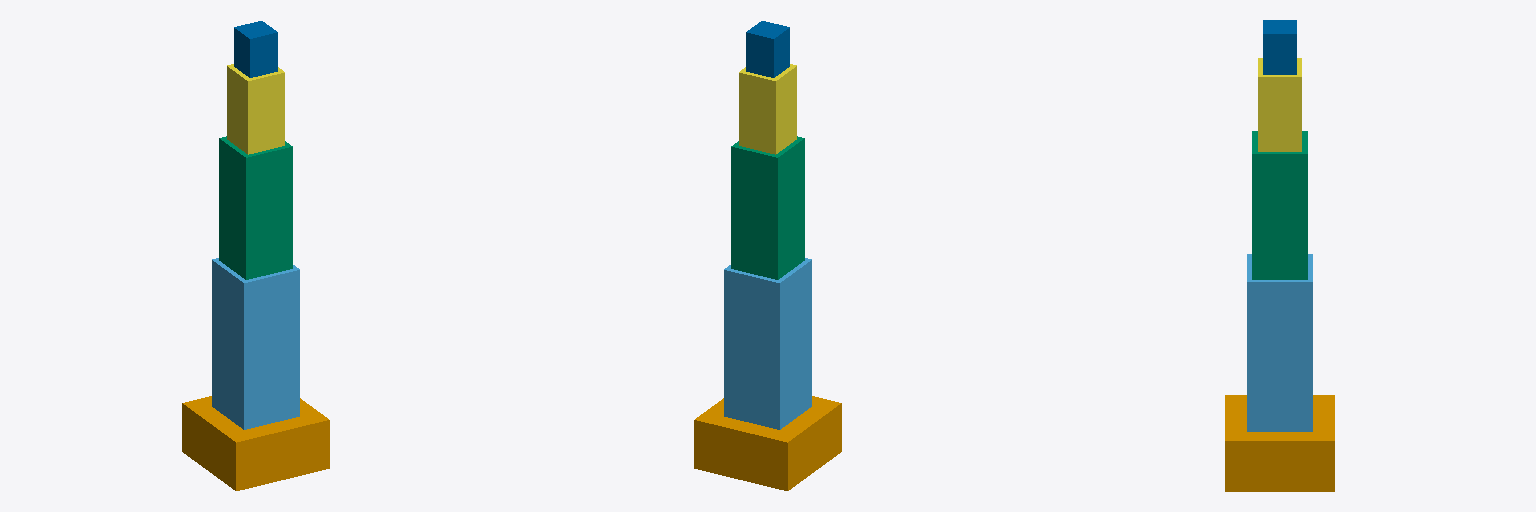
robot.urdf — simple_arm:
<?xml version="1.0" encoding="utf-8"?>
<robot name="simple_arm">
  <link name="base_link">
    <visual>
      <geometry>
        <box size="0.2 0.2 0.1"/>
      </geometry>
      <origin xyz="0 0 0.05" rpy="0 0 0"/>
    </visual>
  </link>
  <link name="shoulder_link">
    <visual>
      <geometry>
        <box size="0.12 0.12 0.3"/>
      </geometry>
      <origin xyz="0 0 0.15" rpy="0 0 0"/>
    </visual>
  </link>
  <link name="elbow_link">
    <visual>
      <geometry>
        <box size="0.1 0.1 0.25"/>
      </geometry>
      <origin xyz="0 0 0.125" rpy="0 0 0"/>
    </visual>
  </link>
  <link name="wrist_link">
    <visual>
      <geometry>
        <box size="0.08 0.08 0.15"/>
      </geometry>
      <origin xyz="0 0 0.075" rpy="0 0 0"/>
    </visual>
  </link>
  <link name="gripper_link">
    <visual>
      <geometry>
        <box size="0.06 0.06 0.08"/>
      </geometry>
      <origin xyz="0 0 0.04" rpy="0 0 0"/>
    </visual>
  </link>

  <joint name="base_to_shoulder" type="revolute">
    <parent link="base_link"/>
    <child link="shoulder_link"/>
    <origin xyz="0 0 0.1" rpy="0 0 0"/>
    <axis xyz="0 0 1"/>
    <limit lower="-3.1416" upper="3.1416" effort="50" velocity="3.0"/>
  </joint>
  <joint name="shoulder_to_elbow" type="revolute">
    <parent link="shoulder_link"/>
    <child link="elbow_link"/>
    <origin xyz="0 0 0.3" rpy="0 0 0"/>
    <axis xyz="0 1 0"/>
    <limit lower="-2.0944" upper="2.0944" effort="30" velocity="2.0"/>
  </joint>
  <joint name="elbow_to_wrist" type="revolute">
    <parent link="elbow_link"/>
    <child link="wrist_link"/>
    <origin xyz="0 0 0.25" rpy="0 0 0"/>
    <axis xyz="0 1 0"/>
    <limit lower="-2.0944" upper="2.0944" effort="20" velocity="2.0"/>
  </joint>
  <joint name="wrist_to_gripper" type="revolute">
    <parent link="wrist_link"/>
    <child link="gripper_link"/>
    <origin xyz="0 0 0.15" rpy="0 0 0"/>
    <axis xyz="0 0 1"/>
    <limit lower="-3.1416" upper="3.1416" effort="10" velocity="3.0"/>
  </joint>
</robot>

--- Render facts (derived) ---
Views: 3 orthographic renders of the robot side by side, from view 1: azimuth 30°, elevation 25°; view 2: azimuth 150°, elevation 25°; view 3: azimuth 270°, elevation 25°.
Robot: simple_arm — 5 links, 4 joints (4 revolute); root link base_link; default pose: all joints at 0.
Visible links, largest first — view 1: shoulder_link, elbow_link, base_link, wrist_link, gripper_link; view 2: shoulder_link, elbow_link, base_link, wrist_link, gripper_link; view 3: shoulder_link, base_link, elbow_link, wrist_link, gripper_link.
Boxes of the visible links, left/top/right/bottom form: shoulder_link: left=212, top=258, right=299, bottom=429; elbow_link: left=219, top=136, right=292, bottom=279; base_link: left=182, top=396, right=329, bottom=490; wrist_link: left=227, top=64, right=284, bottom=154; gripper_link: left=234, top=21, right=277, bottom=77; shoulder_link: left=724, top=258, right=811, bottom=429; elbow_link: left=731, top=136, right=804, bottom=279; base_link: left=694, top=396, right=841, bottom=490; wrist_link: left=739, top=64, right=796, bottom=154; gripper_link: left=746, top=21, right=789, bottom=77; shoulder_link: left=1247, top=254, right=1312, bottom=431; base_link: left=1225, top=395, right=1334, bottom=491; elbow_link: left=1252, top=131, right=1307, bottom=279; wrist_link: left=1258, top=58, right=1301, bottom=151; gripper_link: left=1263, top=20, right=1296, bottom=74.
Bounding box of the posed robot: 0.2 × 0.2 × 0.88 m (x, y, z).
Geometry: primitives only (box / cylinder / sphere), no mesh files.
